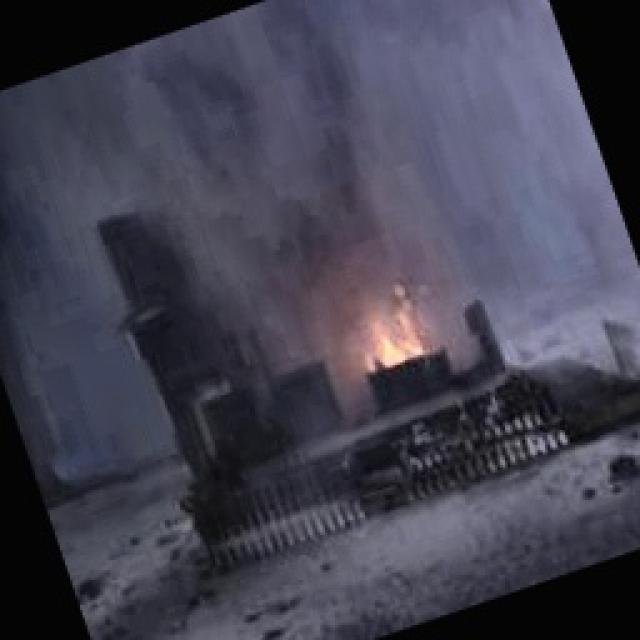fire: (300, 219, 472, 429)
smoke: (180, 0, 612, 310)
